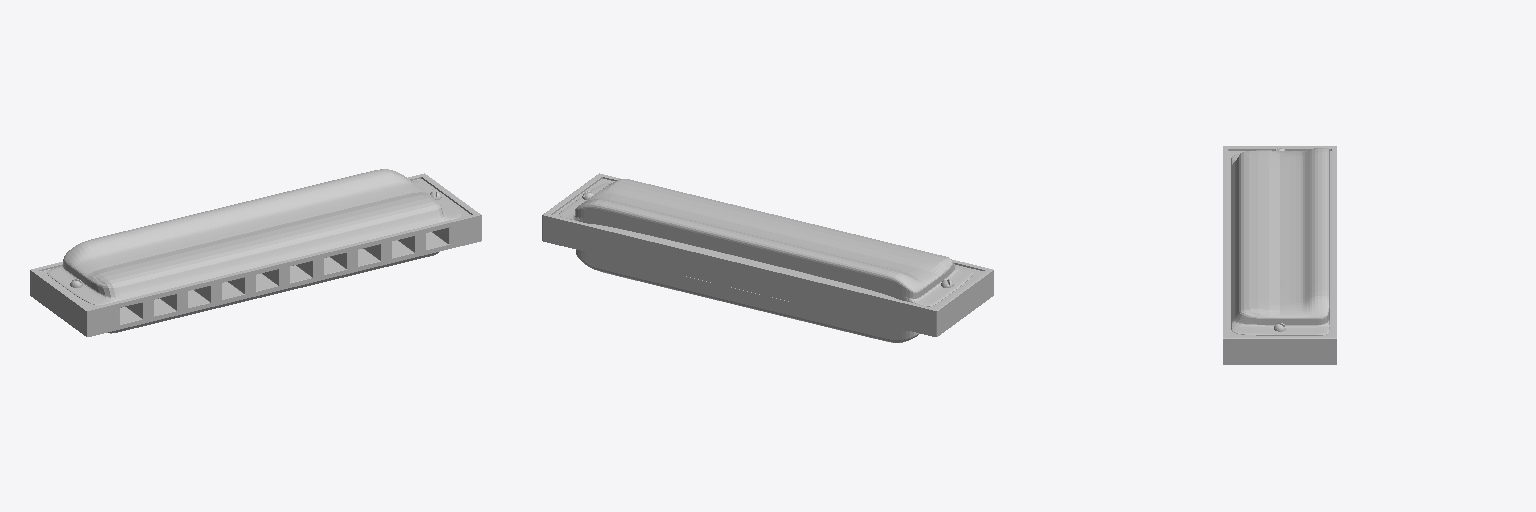
File: harmonica_full.obj
3 renders of one model, left to right at view 1: azimuth 30°, elevation 25°; view 2: azimuth 150°, elevation 25°; view 3: azimuth 270°, elevation 25°, orthographic.
Visible parts, largest first — view 1: pCube2 triangluated pCube6, triangluated pCube1; view 2: pCube2 triangluated pCube6, triangluated pCube1; view 3: pCube2 triangluated pCube6, triangluated pCube1.
Boxes of the visible parts, x1=… form: pCube2 triangluated pCube6: x1=47, y1=169, x2=460, y2=333; triangluated pCube1: x1=30, y1=173, x2=481, y2=336; pCube2 triangluated pCube6: x1=559, y1=179, x2=972, y2=342; triangluated pCube1: x1=542, y1=173, x2=993, y2=336; pCube2 triangluated pCube6: x1=1231, y1=148, x2=1329, y2=335; triangluated pCube1: x1=1223, y1=146, x2=1336, y2=364.
Bounding box in the file's own units: 40 × 6.7 × 10.